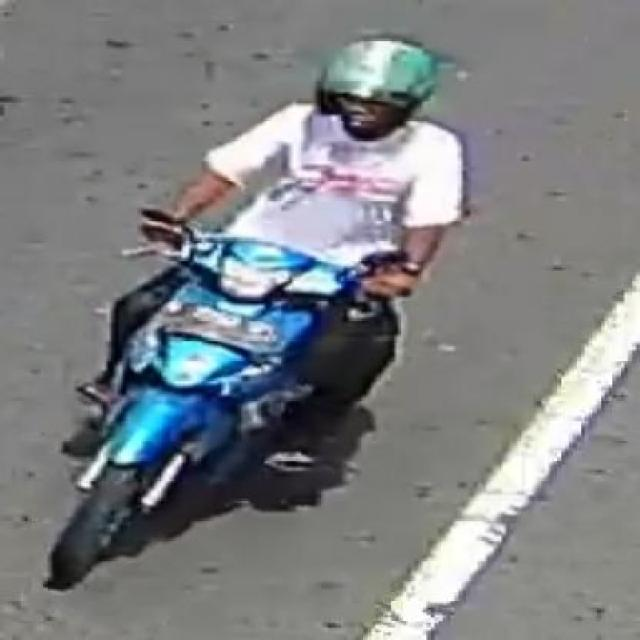helmet: (300, 34, 453, 149)
motorcycle: (45, 24, 480, 601)
